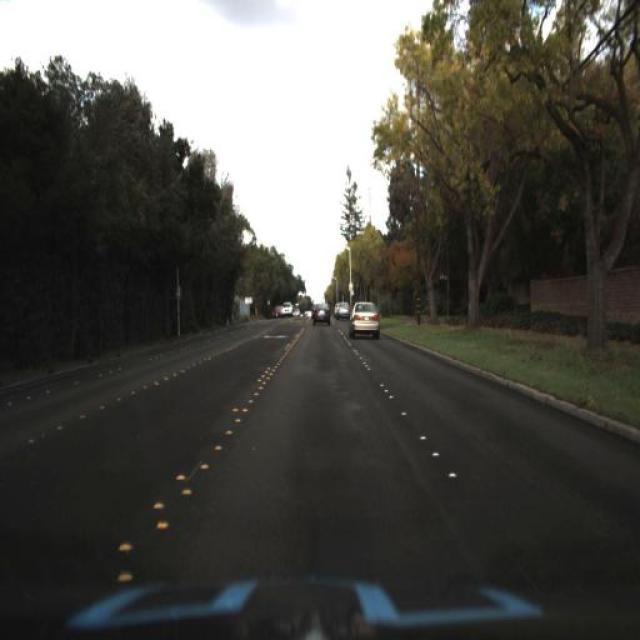car: (347, 294, 381, 340), (332, 294, 353, 324), (310, 299, 330, 330), (334, 300, 350, 326)
